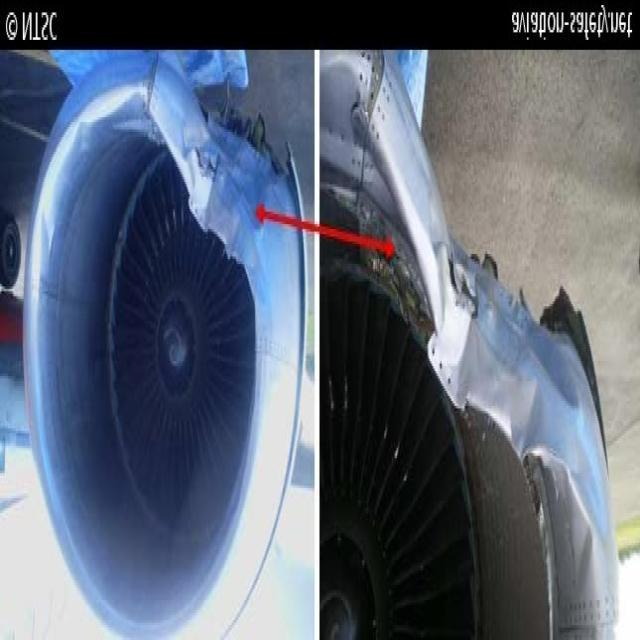dent: (569, 482, 599, 599), (513, 385, 545, 457)
